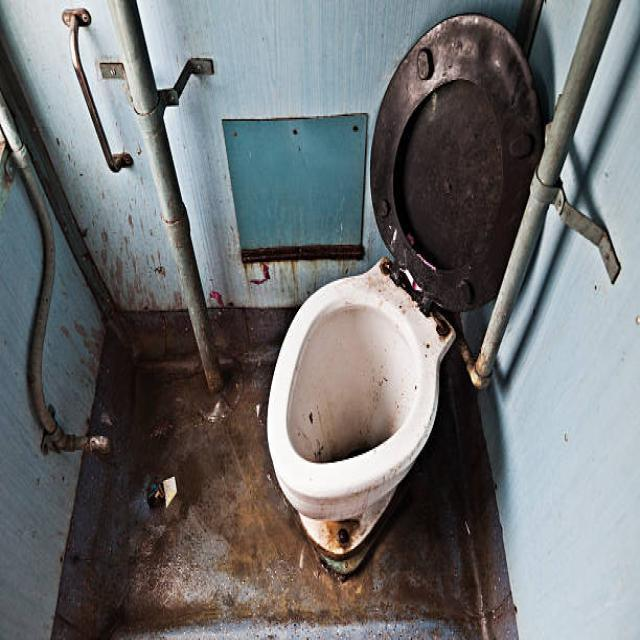dirty_floor: (1, 1, 638, 637), (50, 301, 519, 638), (263, 257, 456, 569), (368, 12, 546, 314), (220, 111, 369, 264), (286, 303, 408, 464)
